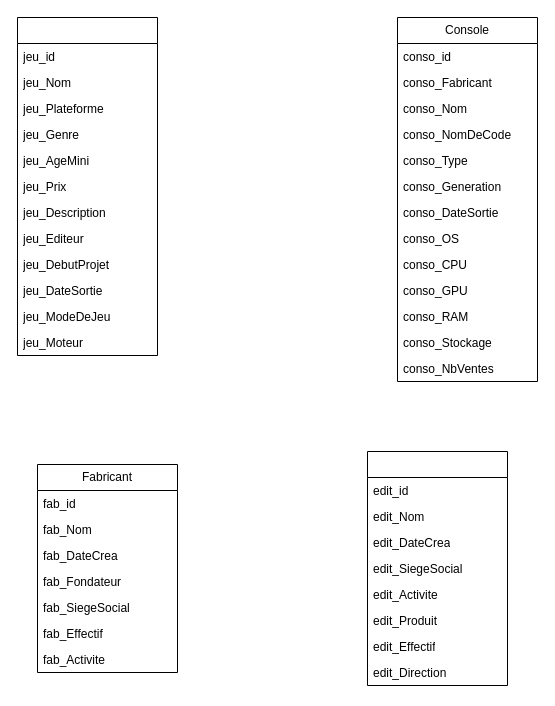
Image size: 555x706. Some labels were removed from this diagram. The box of each missing label's shape, as (x1, y1, x2, y2) in pixels:
Editeur: (366, 450, 508, 686)
Jeux vidéos: (16, 16, 158, 356)
